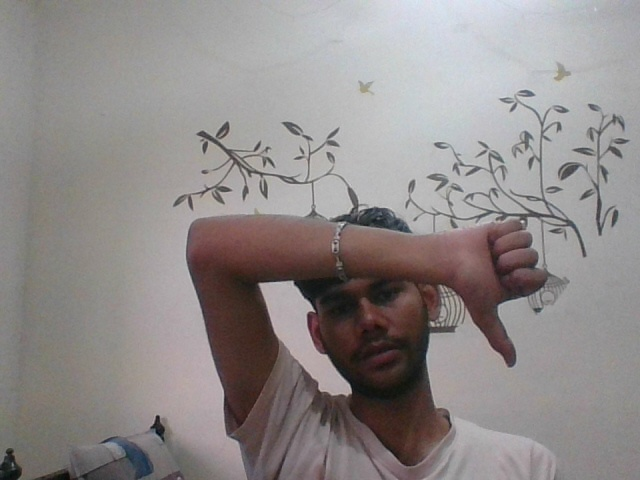No: (438, 220, 570, 380)
